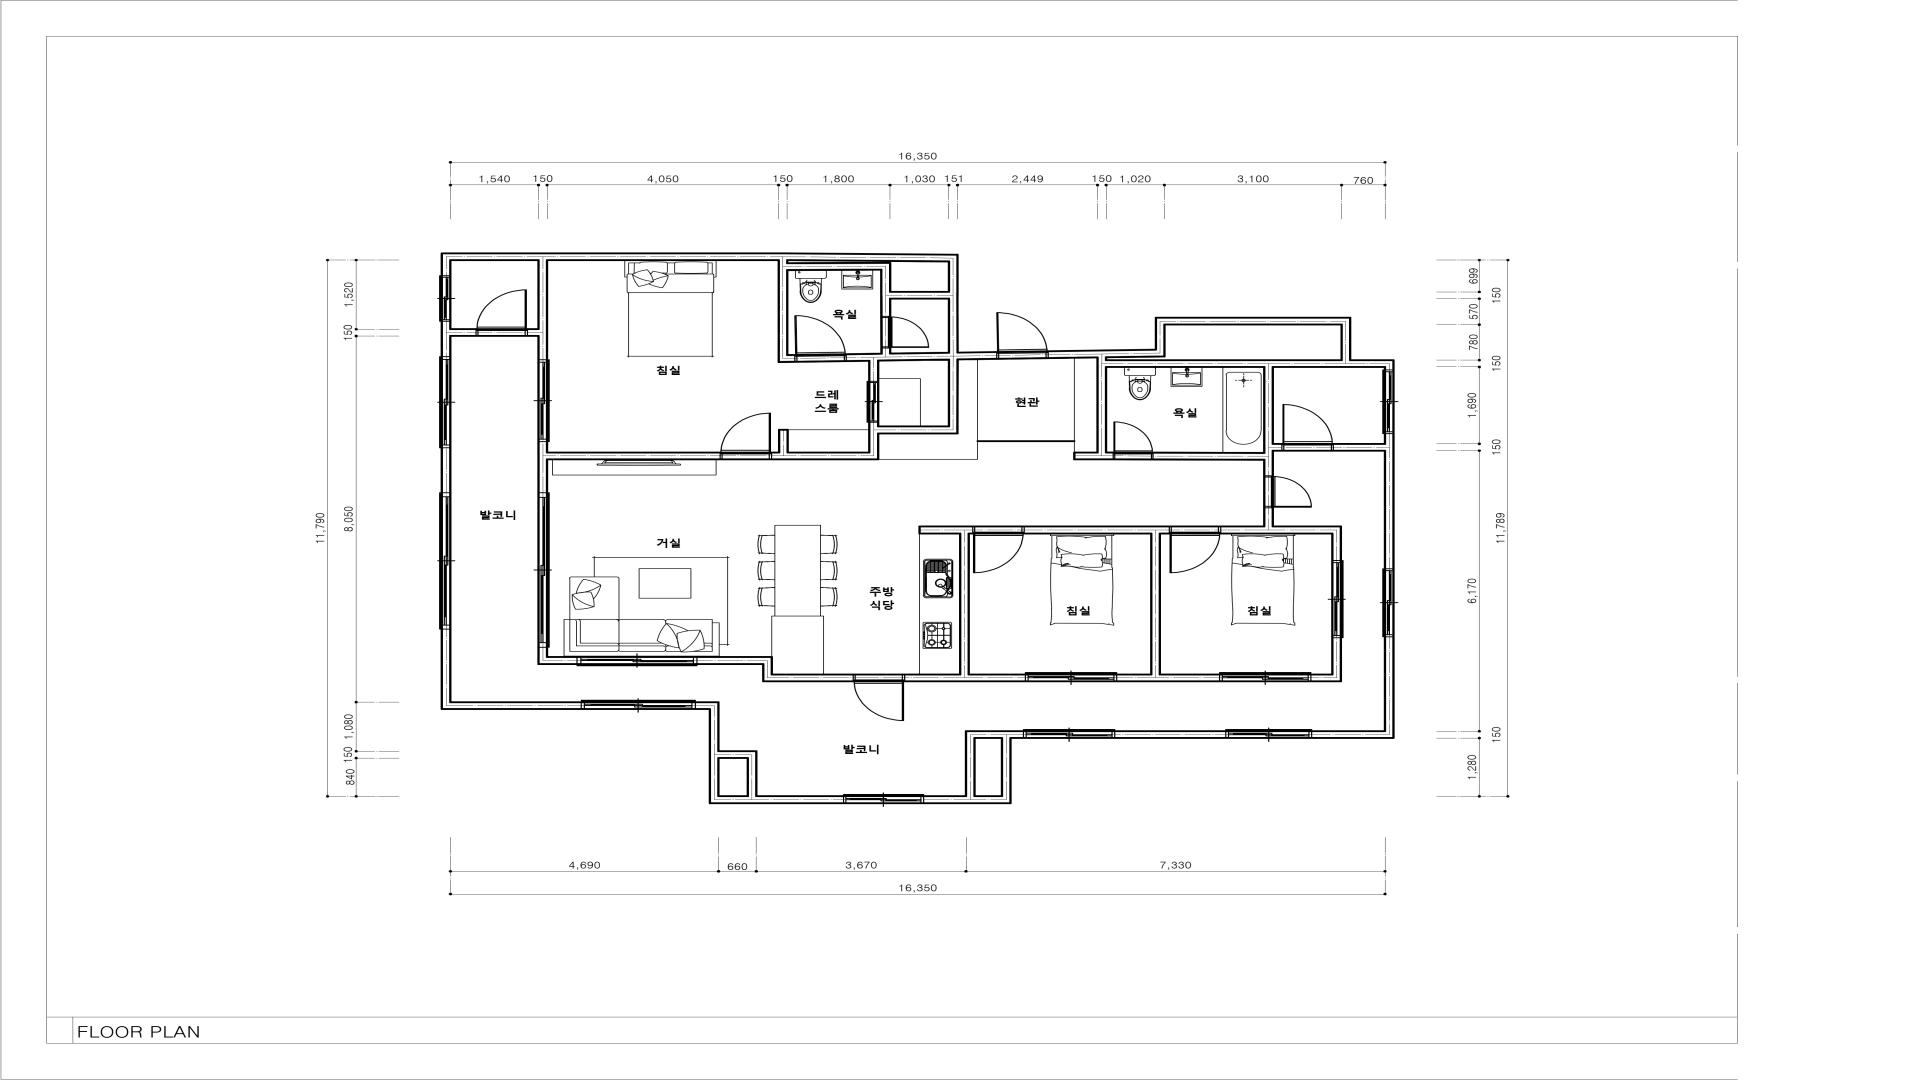background: (0, 0, 1918, 1080)
door: (1281, 403, 1334, 452), (996, 311, 1048, 360), (972, 525, 1025, 573), (476, 289, 528, 337), (1169, 525, 1221, 573), (720, 412, 772, 459), (794, 314, 846, 361), (853, 674, 905, 721), (1113, 421, 1154, 461), (880, 316, 929, 349), (1263, 475, 1312, 508), (867, 381, 879, 423)
wall: (451, 252, 948, 263), (1107, 359, 1341, 368), (1150, 534, 1161, 674), (959, 534, 970, 674), (1384, 434, 1395, 568), (1166, 317, 1341, 325), (548, 452, 720, 460), (1025, 525, 1169, 534), (947, 254, 959, 361), (709, 795, 843, 804), (1263, 368, 1274, 475), (451, 701, 581, 710), (537, 261, 548, 359), (1048, 349, 1155, 359), (1096, 358, 1107, 452), (1384, 637, 1395, 731), (778, 262, 789, 354), (847, 352, 947, 362), (1221, 525, 1332, 534), (1115, 730, 1226, 739), (1153, 452, 1263, 461), (905, 674, 1025, 682), (709, 710, 720, 795), (1117, 673, 1219, 682), (441, 630, 452, 710), (772, 452, 879, 460), (879, 425, 959, 435), (924, 795, 1012, 804), (1312, 730, 1395, 739), (789, 262, 880, 270), (948, 360, 959, 425), (965, 730, 976, 795), (880, 262, 892, 316), (773, 674, 853, 682), (1001, 739, 1012, 795), (697, 656, 763, 665), (1341, 359, 1395, 370), (537, 442, 548, 493), (891, 291, 948, 300), (1340, 317, 1352, 359), (747, 750, 758, 795), (918, 526, 972, 535), (441, 448, 452, 492), (1155, 317, 1166, 358), (976, 730, 1023, 739), (1334, 443, 1384, 451), (1331, 638, 1342, 674), (1331, 525, 1342, 560), (868, 423, 880, 452), (441, 322, 451, 356), (959, 351, 996, 360), (1073, 452, 1113, 460), (762, 656, 773, 682), (548, 656, 577, 665), (441, 252, 452, 275), (778, 429, 789, 452), (1311, 674, 1342, 682), (720, 750, 747, 759), (451, 328, 476, 337), (696, 701, 720, 710), (868, 362, 879, 381), (1263, 508, 1274, 525), (538, 648, 548, 665), (778, 354, 794, 363), (528, 328, 537, 337), (1274, 443, 1281, 452), (880, 348, 892, 353)
window: (537, 493, 550, 648), (439, 493, 451, 630), (576, 656, 698, 666), (581, 700, 696, 710), (440, 358, 452, 448), (1331, 560, 1344, 638), (538, 360, 550, 442), (1023, 729, 1115, 739), (1026, 672, 1118, 682), (1382, 568, 1395, 637), (1226, 729, 1312, 739), (1382, 370, 1395, 434), (1220, 673, 1312, 682), (843, 794, 924, 804), (439, 275, 452, 322)
